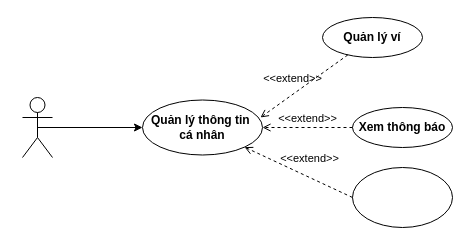
This 470x245 diagram has some shape labels left out. The box of each missing label's shape, as (x1, y1, x2, y2) in pixels:
Sửa thông tin: (352, 166, 452, 228)
Độc giả: (22, 96, 52, 158)
